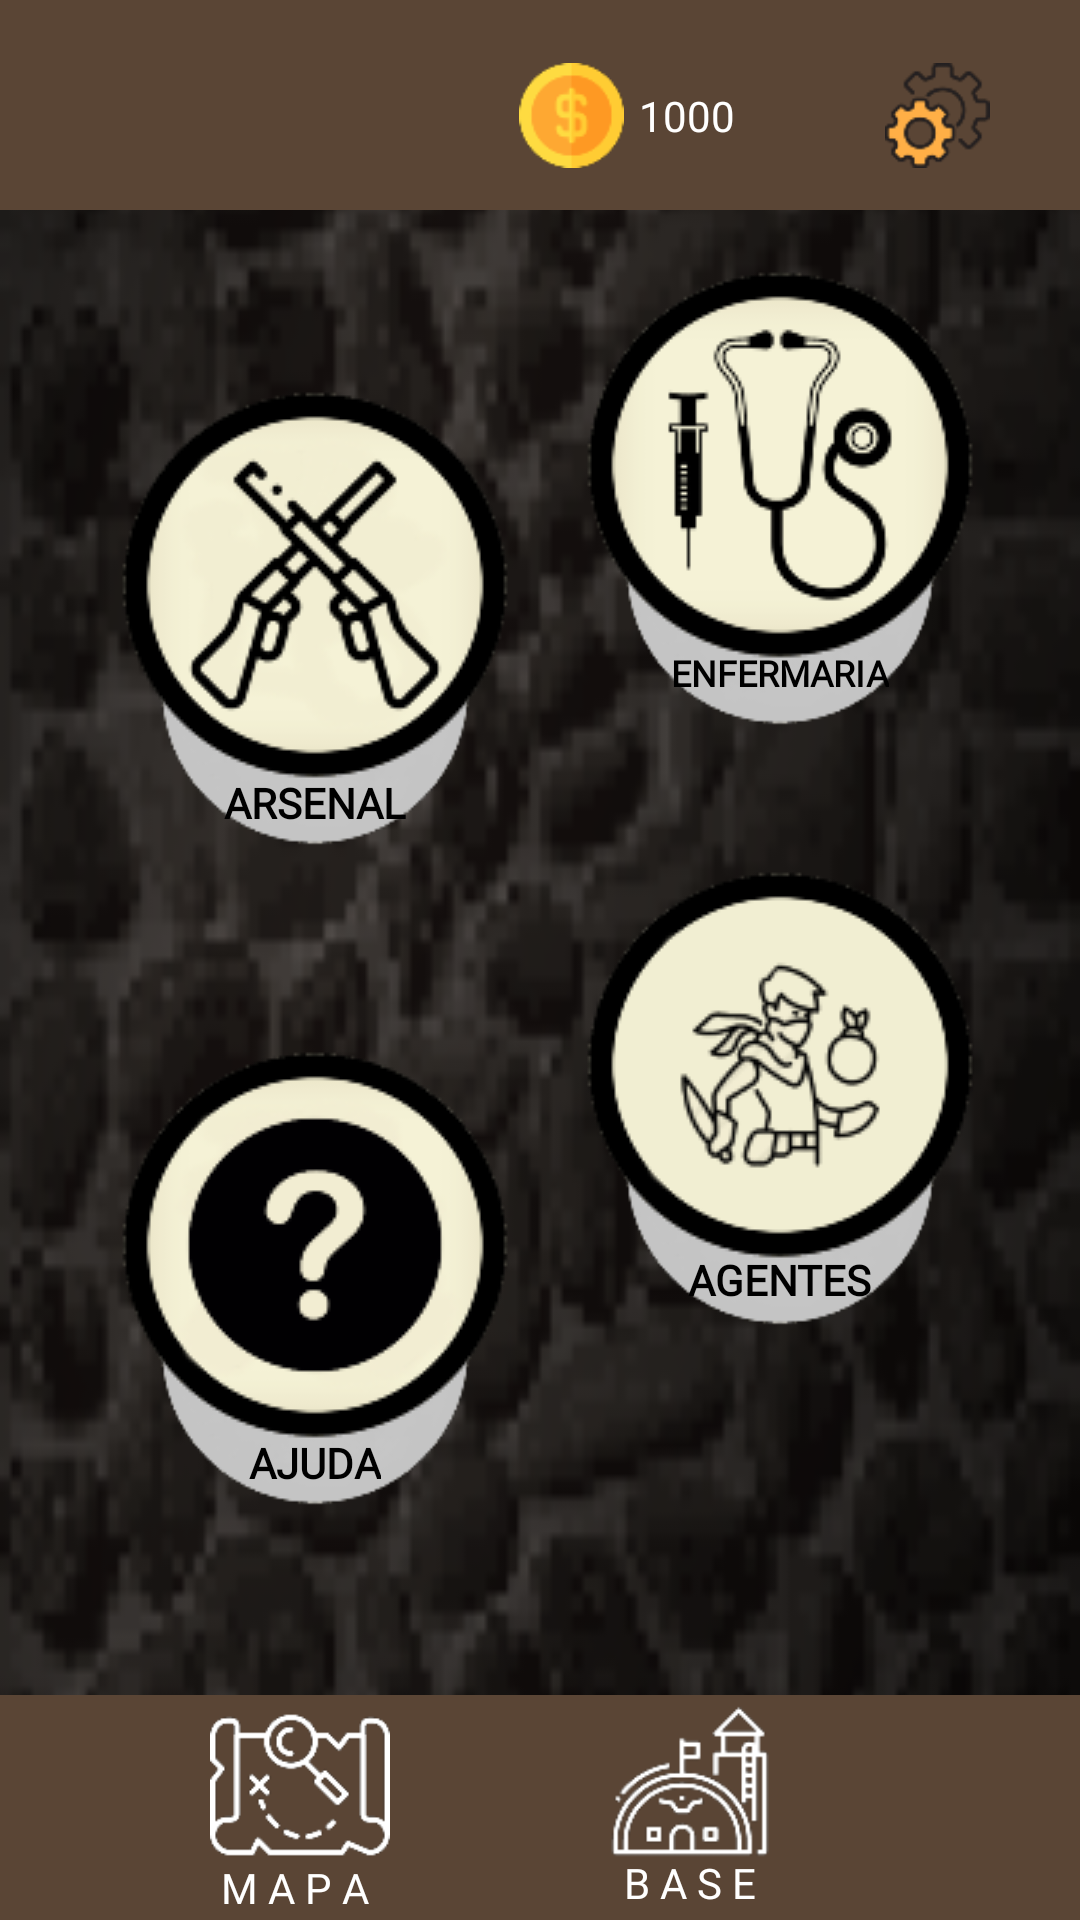

Icon bounding boxes for this 1080×1920 phone screenshot, format (x1, y1, x2, y2):
config: (885, 63, 990, 168)
moeda: (519, 63, 624, 168)
